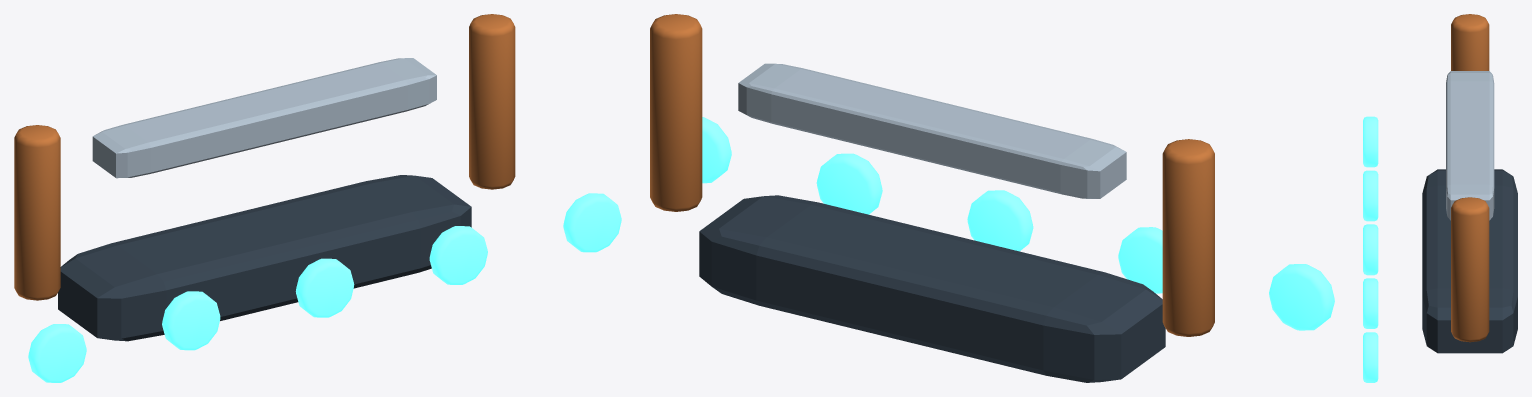
File: Factory_Top.fbx
3 views of the same model, side by side, from view 1: azimuth 30°, elevation 25°; view 2: azimuth 150°, elevation 25°; view 3: azimuth 270°, elevation 25° (orthographic). The views are drawn at different scales.
Visible parts, largest first — view 1: Factory_Base, Factory_TopBeam, Factory_Pipe.001, Factory_Pipe, Bolt_Socket_2.0, Bolt_Socket_-1.0, Bolt_Socket_0.0, Bolt_Socket_-2.0, Bolt_Socket_1.0; view 2: Factory_Base, Factory_TopBeam, Factory_Pipe, Factory_Pipe.001, Bolt_Socket_-2.0, Bolt_Socket_0.0, Bolt_Socket_1.0, Bolt_Socket_-1.0, Bolt_Socket_2.0; view 3: Factory_Base, Factory_TopBeam, Factory_Pipe.001, Factory_Pipe, Bolt_Socket_-1.0, Bolt_Socket_0.0, Bolt_Socket_-2.0, Bolt_Socket_1.0, Bolt_Socket_2.0.
Boxes of the visible parts, left/top/right/bottom form: Factory_Base: left=58, top=175, right=471, bottom=341; Factory_TopBeam: left=92, top=58, right=436, bottom=178; Factory_Pipe.001: left=469, top=14, right=515, bottom=189; Factory_Pipe: left=14, top=125, right=60, bottom=300; Bolt_Socket_2.0: left=563, top=193, right=621, bottom=252; Bolt_Socket_-1.0: left=162, top=291, right=220, bottom=350; Bolt_Socket_0.0: left=295, top=258, right=354, bottom=317; Bolt_Socket_-2.0: left=28, top=324, right=86, bottom=382; Bolt_Socket_1.0: left=429, top=226, right=487, bottom=284; Factory_Base: left=699, top=195, right=1165, bottom=382; Factory_TopBeam: left=738, top=63, right=1126, bottom=198; Factory_Pipe: left=1162, top=139, right=1214, bottom=336; Factory_Pipe.001: left=650, top=14, right=702, bottom=211; Bolt_Socket_-2.0: left=1269, top=264, right=1334, bottom=330; Bolt_Socket_0.0: left=967, top=190, right=1033, bottom=251; Bolt_Socket_1.0: left=816, top=153, right=882, bottom=214; Bolt_Socket_-1.0: left=1118, top=227, right=1162, bottom=293; Bolt_Socket_2.0: left=702, top=117, right=731, bottom=183; Factory_Base: left=1422, top=169, right=1517, bottom=353; Factory_TopBeam: left=1446, top=71, right=1494, bottom=220; Factory_Pipe.001: left=1451, top=197, right=1489, bottom=342; Factory_Pipe: left=1451, top=14, right=1489, bottom=70; Bolt_Socket_-1.0: left=1363, top=170, right=1378, bottom=221; Bolt_Socket_0.0: left=1363, top=224, right=1378, bottom=275; Bolt_Socket_-2.0: left=1363, top=116, right=1378, bottom=167; Bolt_Socket_1.0: left=1363, top=278, right=1378, bottom=328; Bolt_Socket_2.0: left=1363, top=332, right=1378, bottom=382.
Size of the model in its own units: 4.39 by 1.51 by 1.21.
